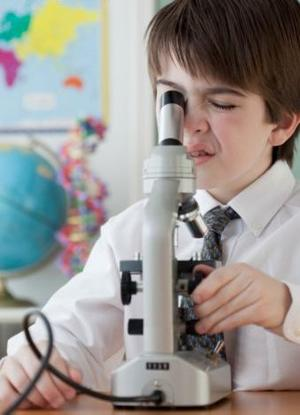person: (2, 1, 300, 414)
